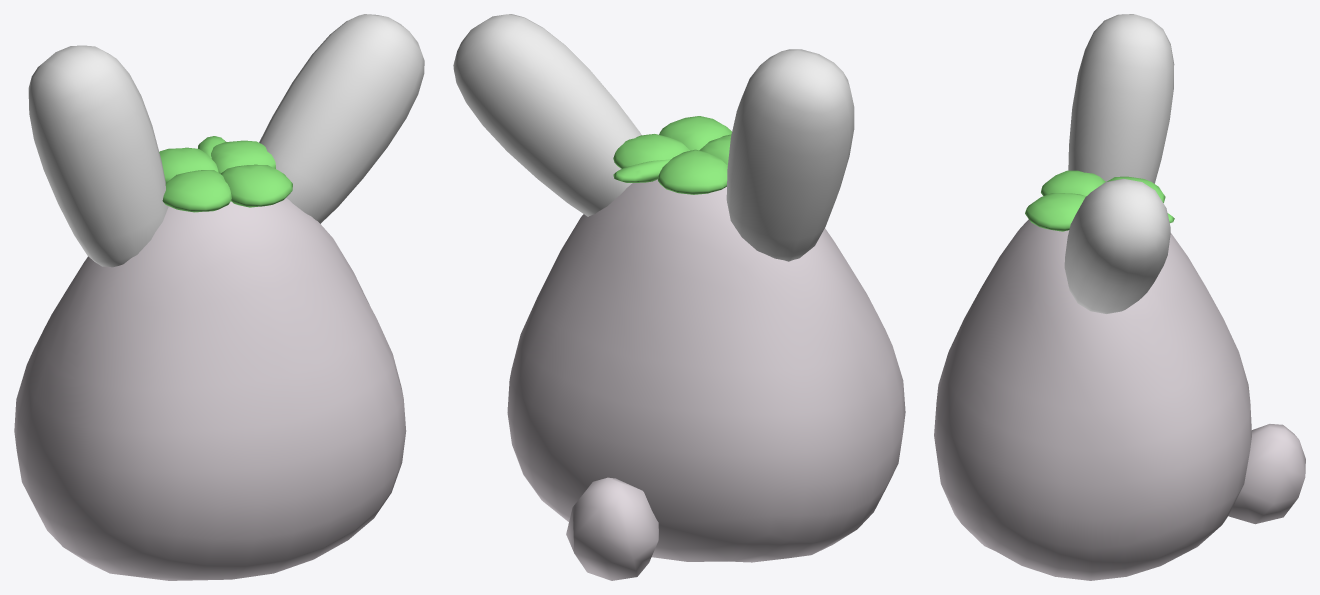
Rendered from rabbit_clover_v0.1.glb.
The picture shows the model from 3 angles, left to right: view 1: azimuth 30°, elevation 25°; view 2: azimuth 150°, elevation 25°; view 3: azimuth 270°, elevation 25°; orthographic projection. The views are drawn at different scales.
Visible parts, largest first — view 1: body, ear.01, ear.02, clover.003, clover.001, clover.002, clover; view 2: body, ear.02, ear.01, tail, clover, clover.002, clover.001, clover.004; view 3: body, ear.01, ear.02, tail, clover.001, clover.003.
Part boxes in pixels (<box>): body: <box>14,198,406,580</box>; ear.01: <box>28,45,168,267</box>; ear.02: <box>259,14,424,223</box>; clover.003: <box>162,170,231,212</box>; clover.001: <box>221,164,292,207</box>; clover.002: <box>211,140,275,173</box>; clover: <box>159,147,218,182</box>; body: <box>507,179,905,562</box>; ear.02: <box>453,14,641,216</box>; ear.01: <box>726,49,854,261</box>; tail: <box>566,477,658,580</box>; clover: <box>658,149,727,194</box>; clover.002: <box>613,134,690,168</box>; clover.001: <box>659,116,731,150</box>; clover.004: <box>613,159,671,182</box>; body: <box>934,219,1251,580</box>; ear.01: <box>1068,14,1174,183</box>; ear.02: <box>1064,178,1170,313</box>; tail: <box>1228,424,1305,524</box>; clover.001: <box>1025,193,1086,231</box>; clover.003: <box>1041,170,1105,195</box>.
Size of what is drawn, in the model's own units: 2.15 by 2.64 by 1.91.
